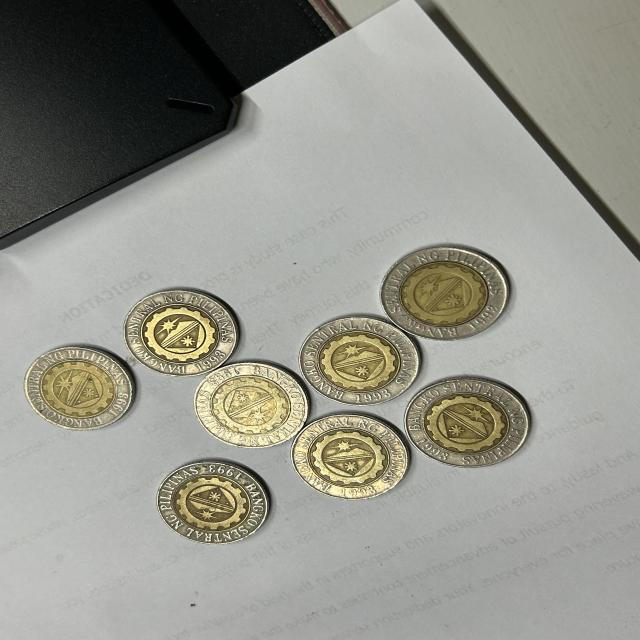10_Old_Back: (385, 249, 509, 335), (408, 378, 523, 469), (125, 290, 233, 370), (199, 368, 308, 443), (20, 352, 134, 423), (297, 326, 421, 391), (163, 465, 269, 540), (125, 297, 231, 364)
